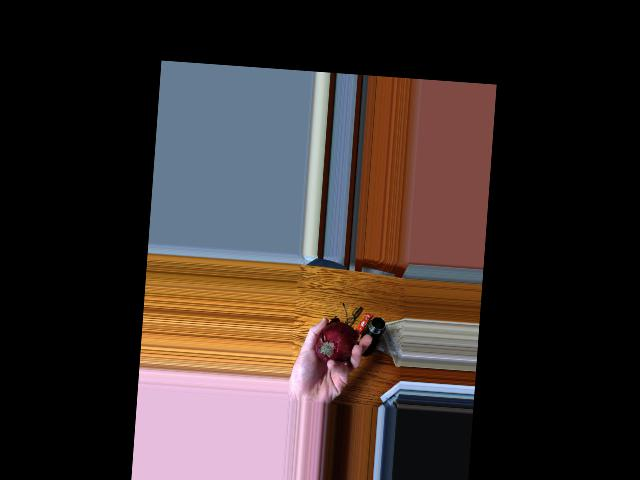onion: (312, 320, 356, 366)
